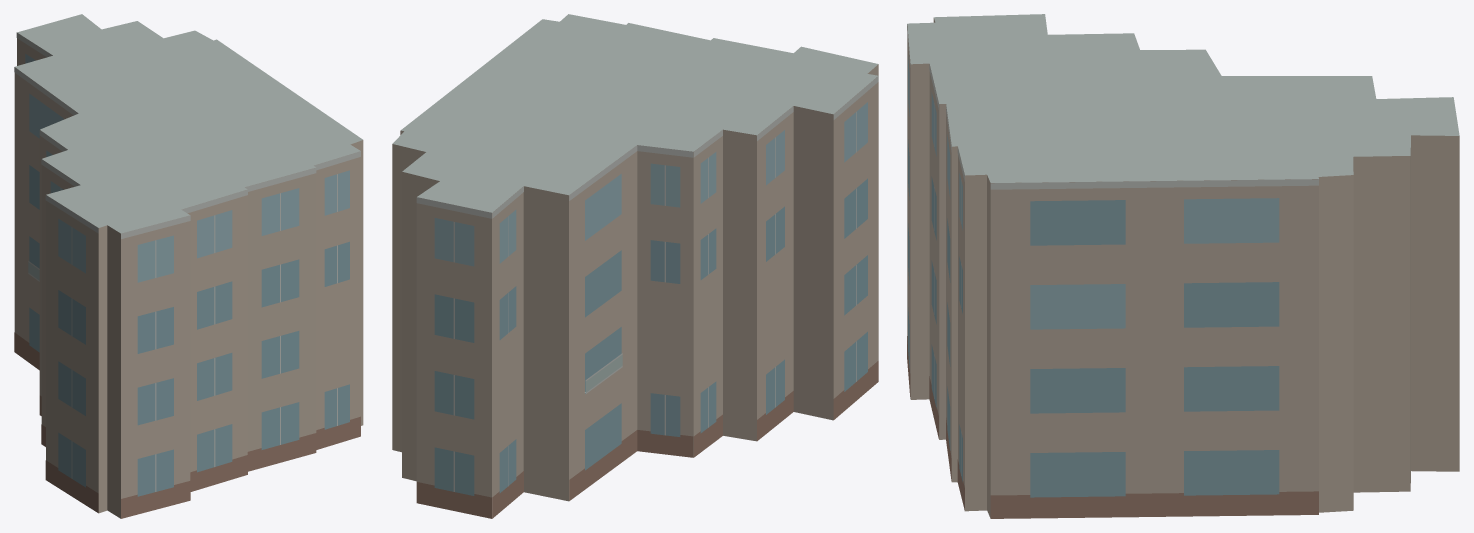
File: survey-upis-32997659.glb
The picture shows the model from 3 angles, left to right: view 1: azimuth 30°, elevation 25°; view 2: azimuth 150°, elevation 25°; view 3: azimuth 270°, elevation 25°; orthographic projection. The views are drawn at different scales.
Visible parts, largest first — view 1: survey-upis-32997659.tmp; view 2: survey-upis-32997659.tmp; view 3: survey-upis-32997659.tmp.
Boxes of the visible parts, x1,y1,x2,y2 form: survey-upis-32997659.tmp: (14,14,363,518); survey-upis-32997659.tmp: (392,14,878,518); survey-upis-32997659.tmp: (907,14,1459,518).
Bounding box in the file's own units: 13.29 × 12.3 × 18.35.
